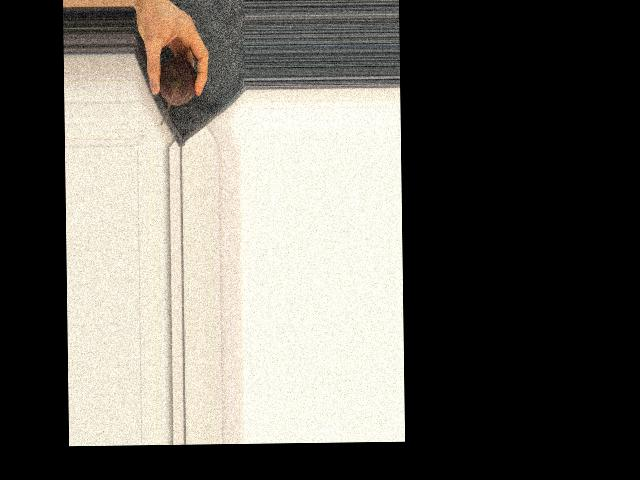beet: (159, 57, 197, 125)
